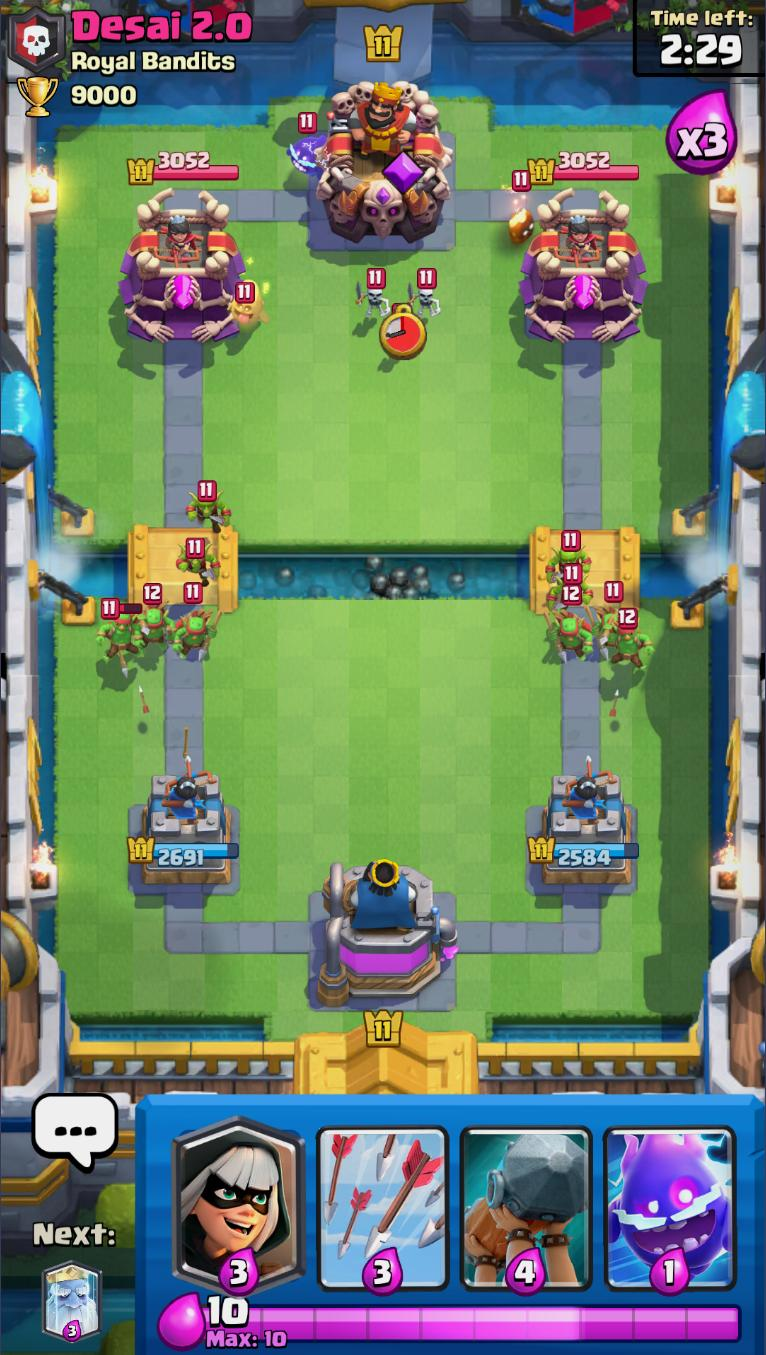ArrowDeck: (308, 1098, 454, 1293)
BanditDeck: (162, 1096, 313, 1290)
BattleRamDeck: (455, 1098, 597, 1297)
ElectroSpirit: (284, 110, 323, 180)
ElectroSpiritDeck: (597, 1098, 744, 1293)
Elixir: (203, 1285, 252, 1328)
EnemyTower: (522, 190, 650, 348), (120, 197, 238, 347)
FireSpirit: (503, 167, 538, 246)
Goblin: (175, 535, 220, 592), (547, 531, 593, 583), (185, 480, 227, 535), (549, 568, 594, 615)
HealSpirit: (228, 279, 267, 335)
KingTower: (313, 73, 450, 257)
MyKingTower: (315, 860, 462, 1010)
MyPrincessTower: (122, 773, 240, 892), (530, 767, 642, 887)
MyPrincessTowerHP: (128, 837, 238, 867), (532, 838, 642, 867)
PrincessTower: (553, 213, 608, 268), (155, 210, 205, 267)
RoyaleGhostNext: (42, 1257, 103, 1343)
Skeleton: (353, 267, 391, 326), (406, 268, 443, 322)
SpearGoblin: (102, 595, 147, 678), (547, 585, 595, 660), (178, 583, 220, 662), (608, 607, 650, 685), (133, 585, 175, 655), (590, 578, 635, 638)
TowerPrincessHP: (527, 150, 642, 188), (128, 145, 237, 185)
